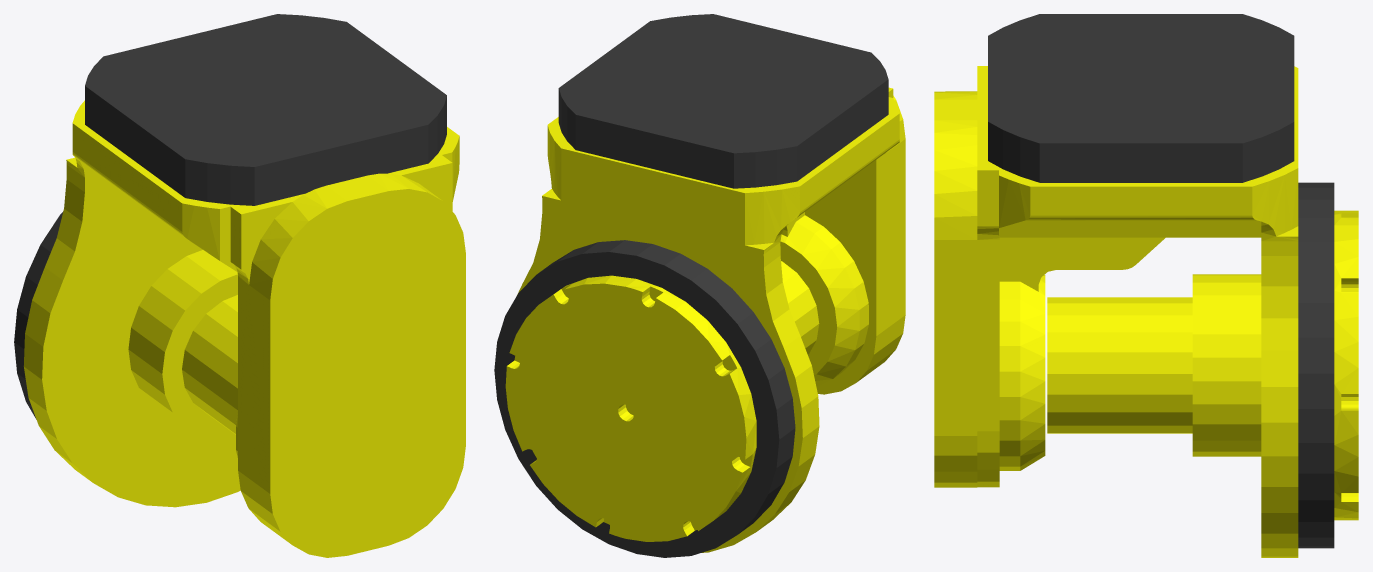
3 views of the same model, side by side, from view 1: azimuth 30°, elevation 25°; view 2: azimuth 150°, elevation 25°; view 3: azimuth 270°, elevation 25° (orthographic). The views are drawn at different scales.
Parts seen in each view (by area): view 1: node; view 2: node; view 3: node.
Part boxes in pixels (x1=…): node: x1=14, y1=14, x2=465, y2=557; node: x1=494, y1=14, x2=905, y2=557; node: x1=934, y1=14, x2=1358, y2=557.
Size of the model in its own units: 214 by 283 by 235.
